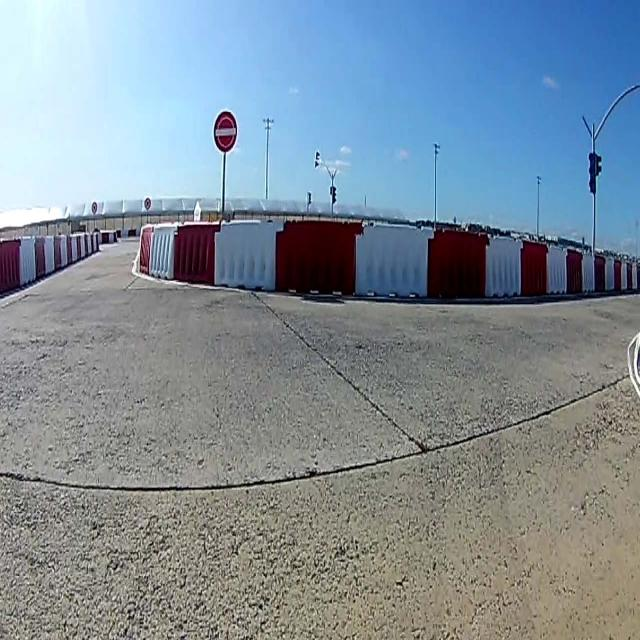girisyok: (213, 111, 239, 156)
